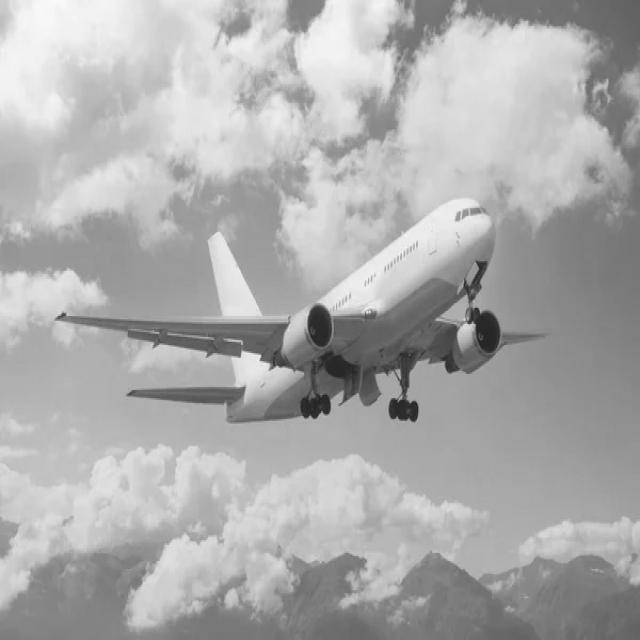Aircraft: (61, 184, 550, 443)
